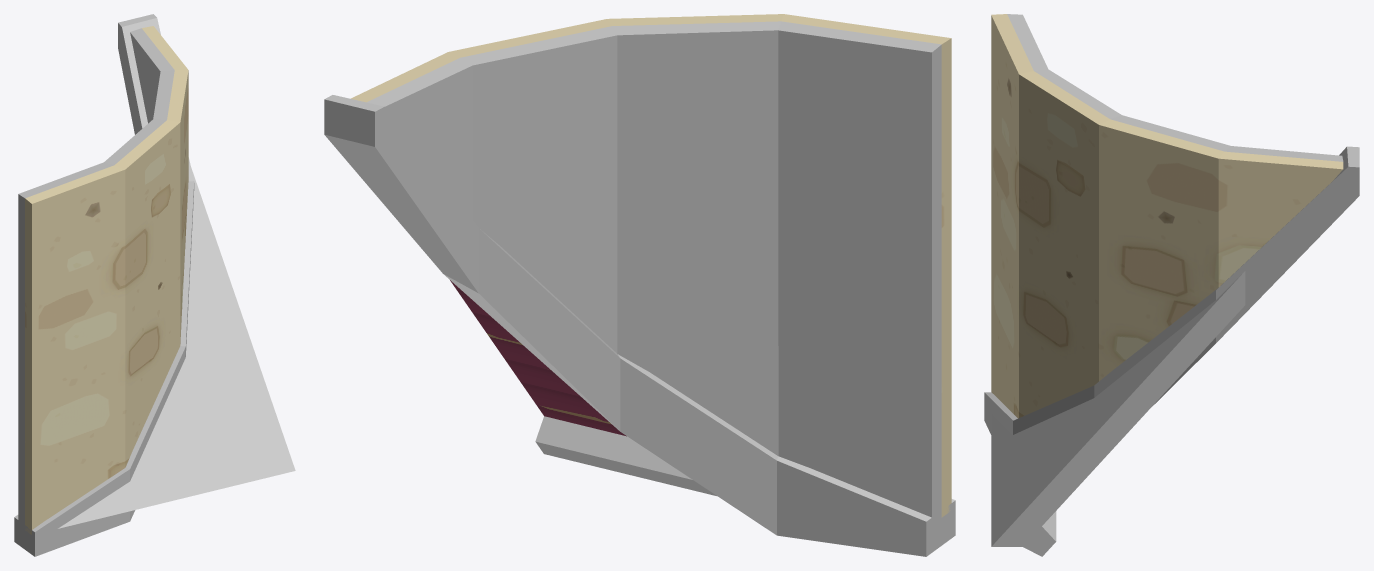
The model's file is SM_Bld_Roof_Straight_Tower_02.fbx.
3 views of the same model, side by side, from view 1: azimuth 30°, elevation 25°; view 2: azimuth 150°, elevation 25°; view 3: azimuth 270°, elevation 25° (orthographic). The views are drawn at different scales.
Parts seen in each view (by area): view 1: SM_Bld_Roof_Straight_Tower_02; view 2: SM_Bld_Roof_Straight_Tower_02; view 3: SM_Bld_Roof_Straight_Tower_02.
Part boxes in pixels (<box>): SM_Bld_Roof_Straight_Tower_02: <box>14,14,295,556</box>; SM_Bld_Roof_Straight_Tower_02: <box>324,14,955,556</box>; SM_Bld_Roof_Straight_Tower_02: <box>984,14,1359,556</box>.
Size of the model in its own units: 266 by 322 by 266.
